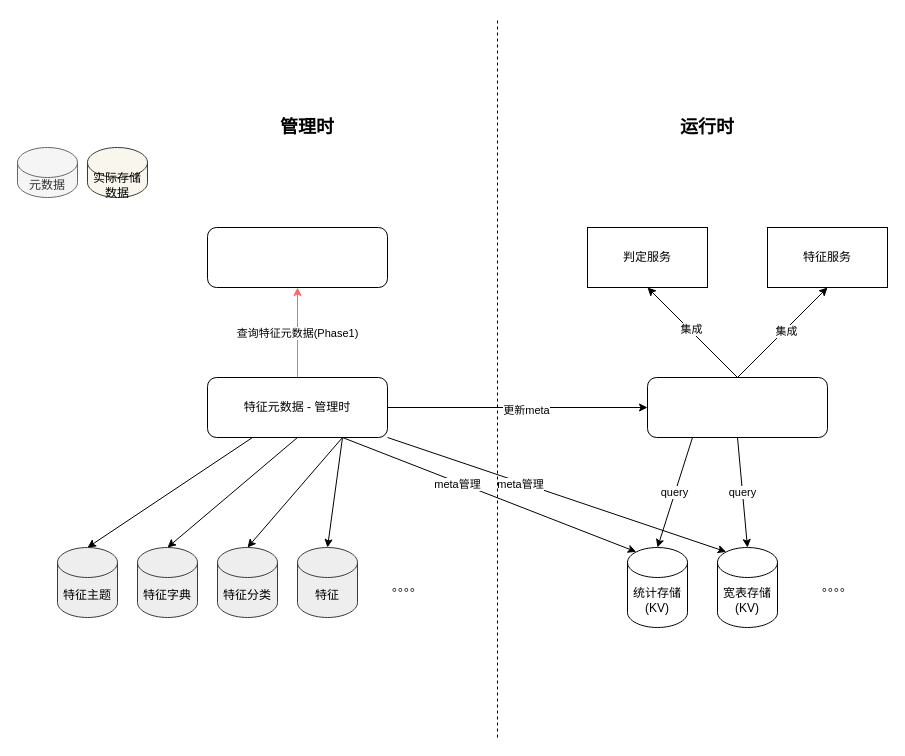
Image size: 905x756. Some labels were removed from this diagram. The centre of each missing label's shape, as x and y in pixels:
智能人场 - 管理时: point 297,257
特征运行时 - jar: point 737,407
